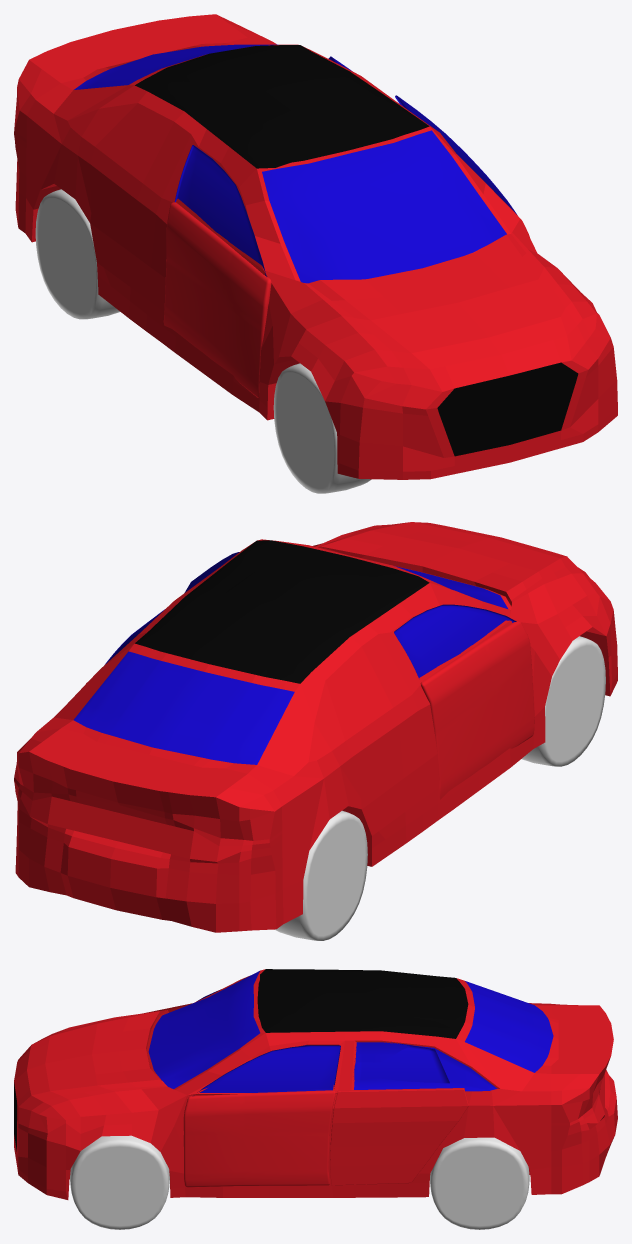
The model's file is car.glb.
3 renders of one model, top to bottom at view 1: azimuth 30°, elevation 25°; view 2: azimuth 150°, elevation 25°; view 3: azimuth 270°, elevation 25°, orthographic. The views are drawn at different scales.
Parts seen in each view (by area): view 1: Cube, Cube.005, Cube.004, Cube.002; view 2: Cube, Cube.005, Cube.002, Cube.004; view 3: Cube, Cube.005, Cube.006, Cube.003, Cube.001.
Boxes of the visible parts, x1,y1,x2,y2 form: Cube: [14, 14, 617, 479]; Cube.005: [163, 95, 529, 397]; Cube.004: [273, 363, 371, 493]; Cube.002: [35, 189, 120, 319]; Cube: [14, 522, 617, 932]; Cube.005: [184, 552, 534, 799]; Cube.002: [274, 810, 367, 940]; Cube.004: [521, 636, 605, 766]; Cube: [14, 969, 617, 1199]; Cube.005: [183, 989, 340, 1187]; Cube.006: [330, 1042, 468, 1185]; Cube.003: [70, 1135, 169, 1229]; Cube.001: [430, 1137, 529, 1229].
Size of the model in its own units: 1.4 by 1.19 by 3.44.
